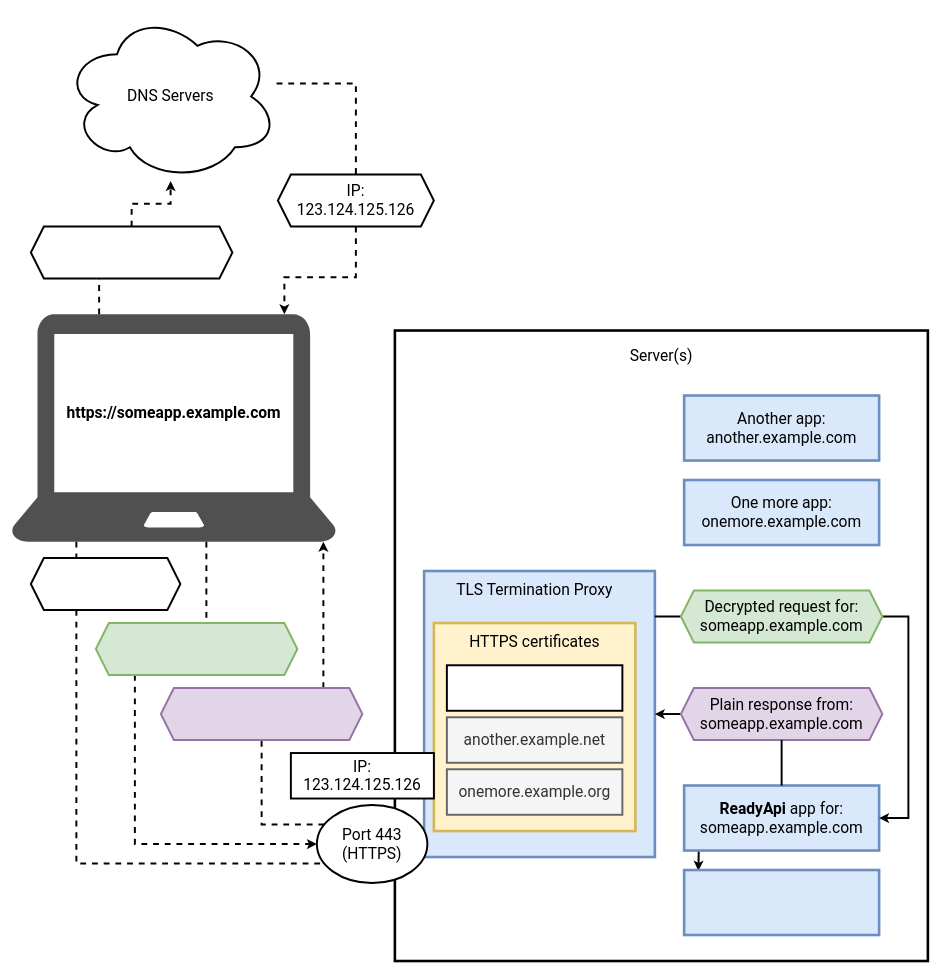
The diagram is 940 pixels wide and 974 high, and some of its shapes have lost their labels. Each missing label, with the box of its shape:
A Database: (682, 868, 880, 936)
Encrypted request for: someapp.example.com: (95, 622, 298, 676)
Encrypted response from: someapp.example.com: (160, 687, 363, 741)
someapp.example.com: (446, 664, 623, 711)
TLS Handshake: (30, 557, 181, 611)
Who is: someapp.example.com: (30, 225, 233, 279)
